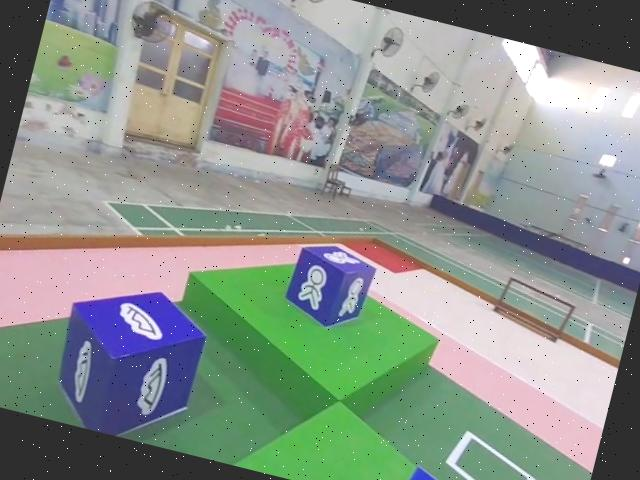R2 Real Blue: (43, 272, 211, 451), (279, 237, 379, 337)
